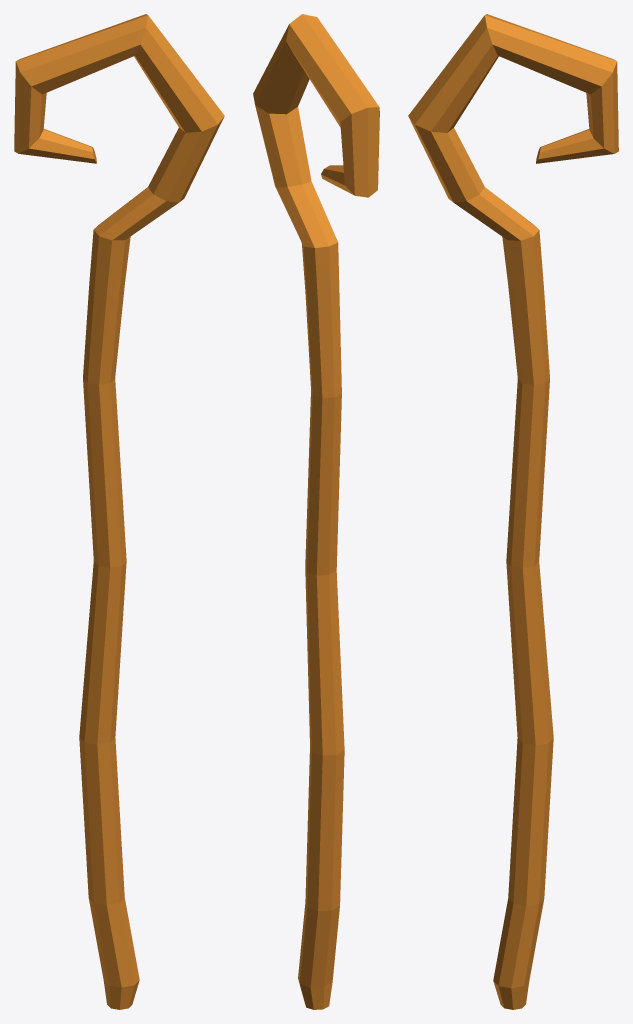
File: FireStaff.gltf
3 views of the same model, side by side, from view 1: azimuth 90°, elevation 25°; view 2: azimuth 210°, elevation 25°; view 3: azimuth 270°, elevation 25° (orthographic).
Parts seen in each view (by area): view 1: Staff_1; view 2: Staff_1; view 3: Staff_1.
Boxes of the visible parts, x1,y1,x2,y2 form: Staff_1: (14, 14, 224, 1009); Staff_1: (253, 14, 379, 1009); Staff_1: (408, 14, 618, 1009).
Bounding box in the file's own units: 0.0992 × 2.27 × 0.4387.
